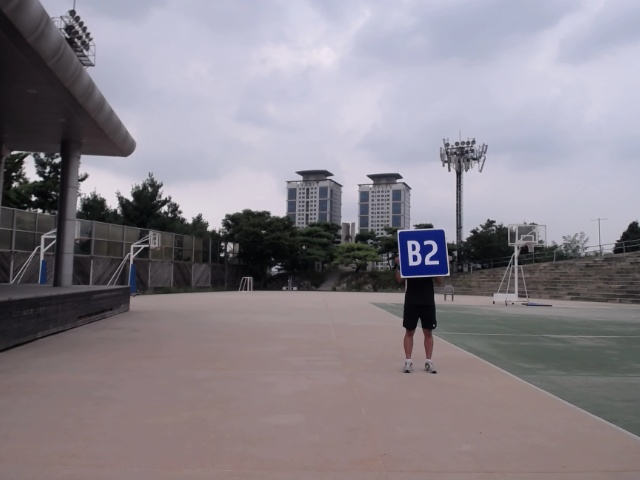delivery_b2: (396, 229, 450, 278)
